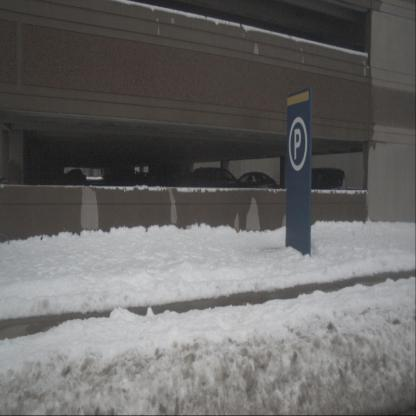vehicle-car: (284, 168, 348, 212), (182, 167, 251, 206), (226, 172, 281, 206)
